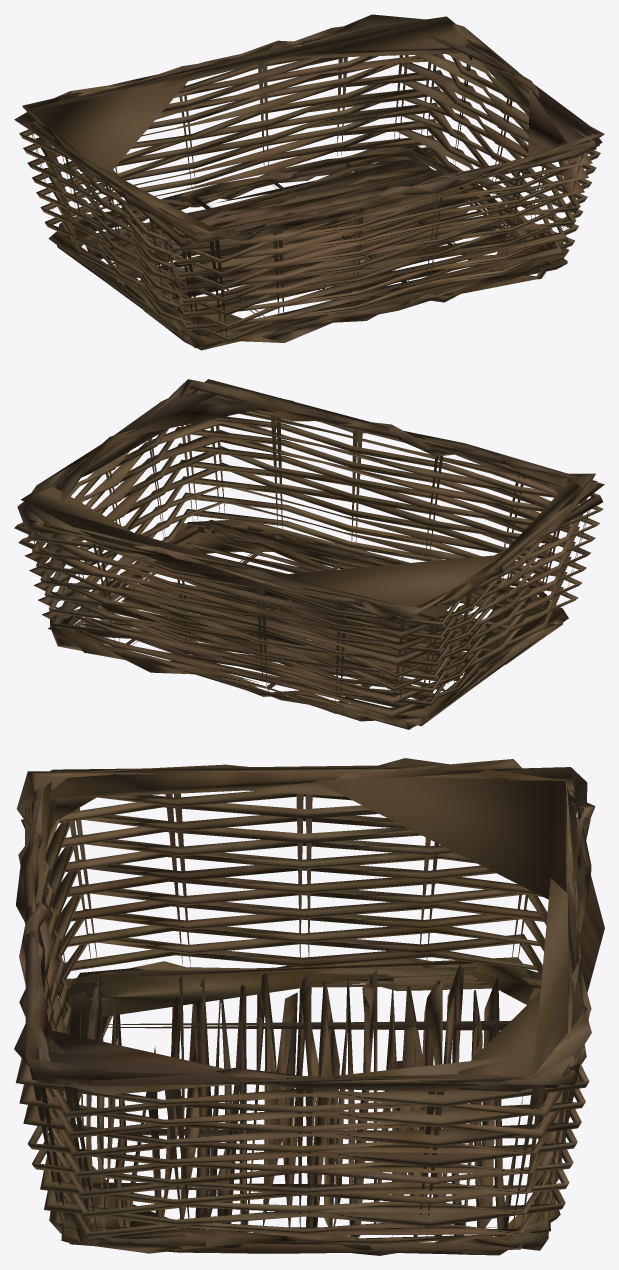
File: wicker_basket_01.glb
The picture shows the model from 3 angles, top to bottom: view 1: azimuth 30°, elevation 25°; view 2: azimuth 150°, elevation 25°; view 3: azimuth 270°, elevation 25°; orthographic projection. The views are drawn at different scales.
Visible parts, largest first — view 1: wicker_basket_01; view 2: wicker_basket_01; view 3: wicker_basket_01.
Boxes of the visible parts, x1,y1,x2,y2 form: wicker_basket_01: (14,14,604,350); wicker_basket_01: (14,379,604,729); wicker_basket_01: (14,758,604,1255).
Bounding box in the file's own units: 0.3814 × 0.1213 × 0.2997.
1 material, 1 textured.
